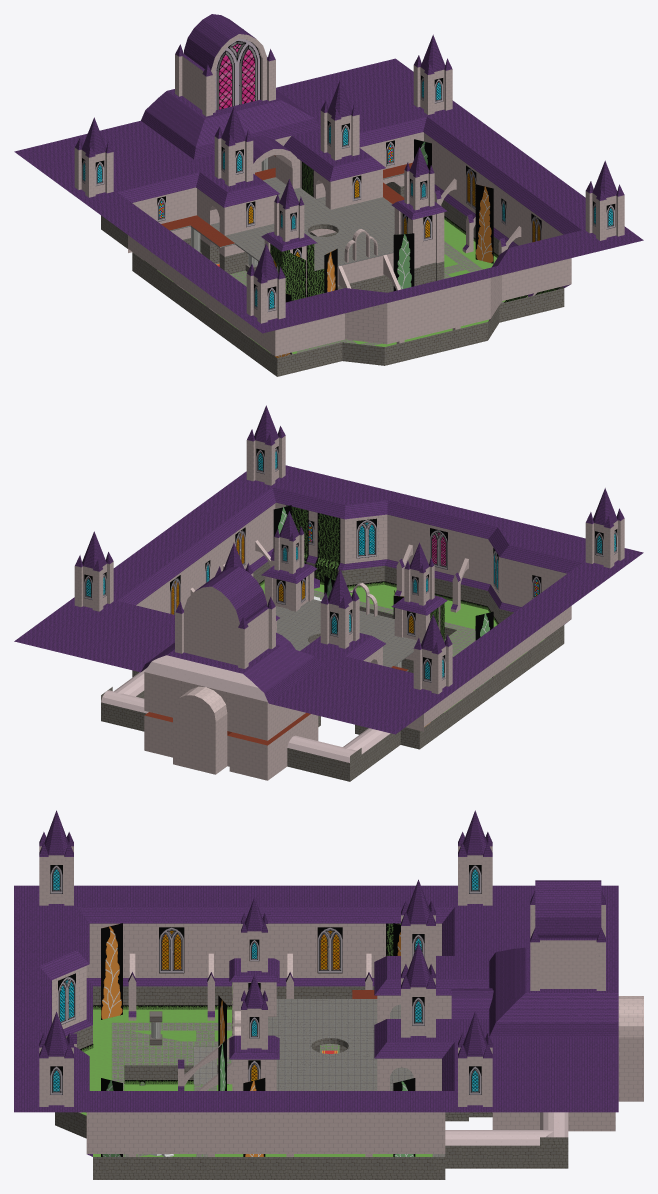
The model's file is weddingquake.glb.
3 views of the same model, one above another, from view 1: azimuth 30°, elevation 25°; view 2: azimuth 150°, elevation 25°; view 3: azimuth 270°, elevation 25° (orthographic). The views are drawn at different scales.
Visible parts, largest first — view 1: WeddingQuake.001; view 2: WeddingQuake.001; view 3: WeddingQuake.001.
Boxes of the visible parts, x1=… form: WeddingQuake.001: x1=14, y1=14, x2=643, y2=376; WeddingQuake.001: x1=14, y1=405, x2=643, y2=781; WeddingQuake.001: x1=14, y1=810, x2=643, y2=1179.
Bounding box in the file's own units: 54.4 × 25.92 × 63.92.
Materials: 39 (39 with a texture image).
